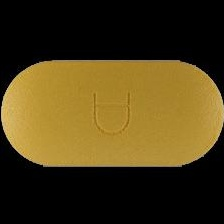61919-418: (0, 0, 224, 224)
